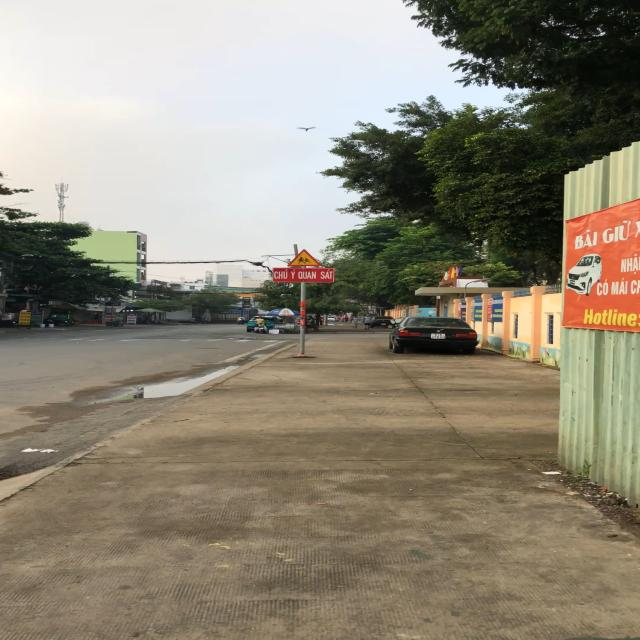Bien bao tre em: (286, 248, 323, 267)
